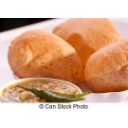poori: (9, 30, 82, 83), (54, 17, 123, 55), (85, 36, 128, 93)
